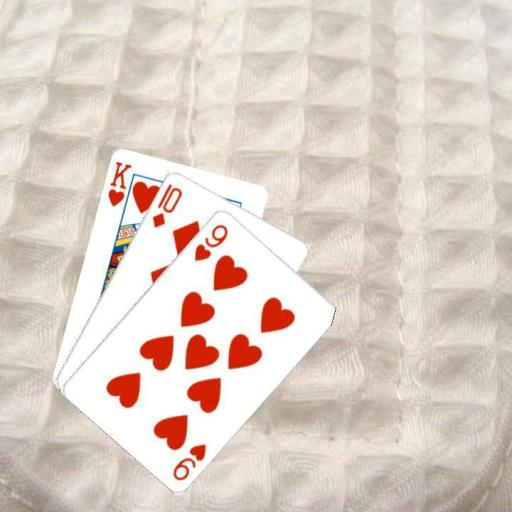10D: (149, 180, 184, 229)
9H: (191, 221, 230, 263), (169, 440, 208, 482)
KH: (105, 158, 133, 208)
